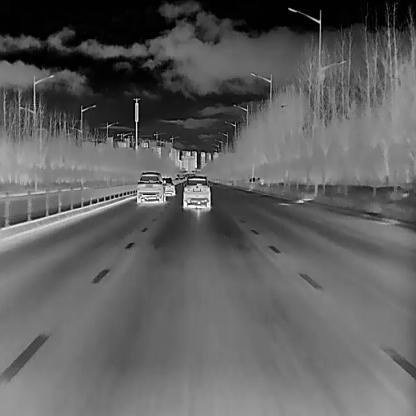car: (182, 175, 211, 209), (136, 170, 165, 204), (162, 176, 175, 195)
